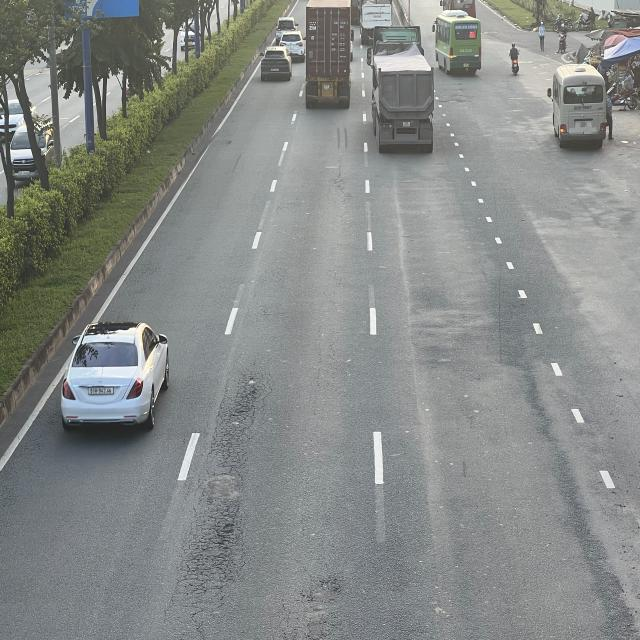car: (64, 320, 173, 432), (261, 47, 294, 84)
coach: (548, 63, 609, 145), (435, 13, 485, 75)
container: (371, 27, 437, 155), (304, 0, 352, 112)
